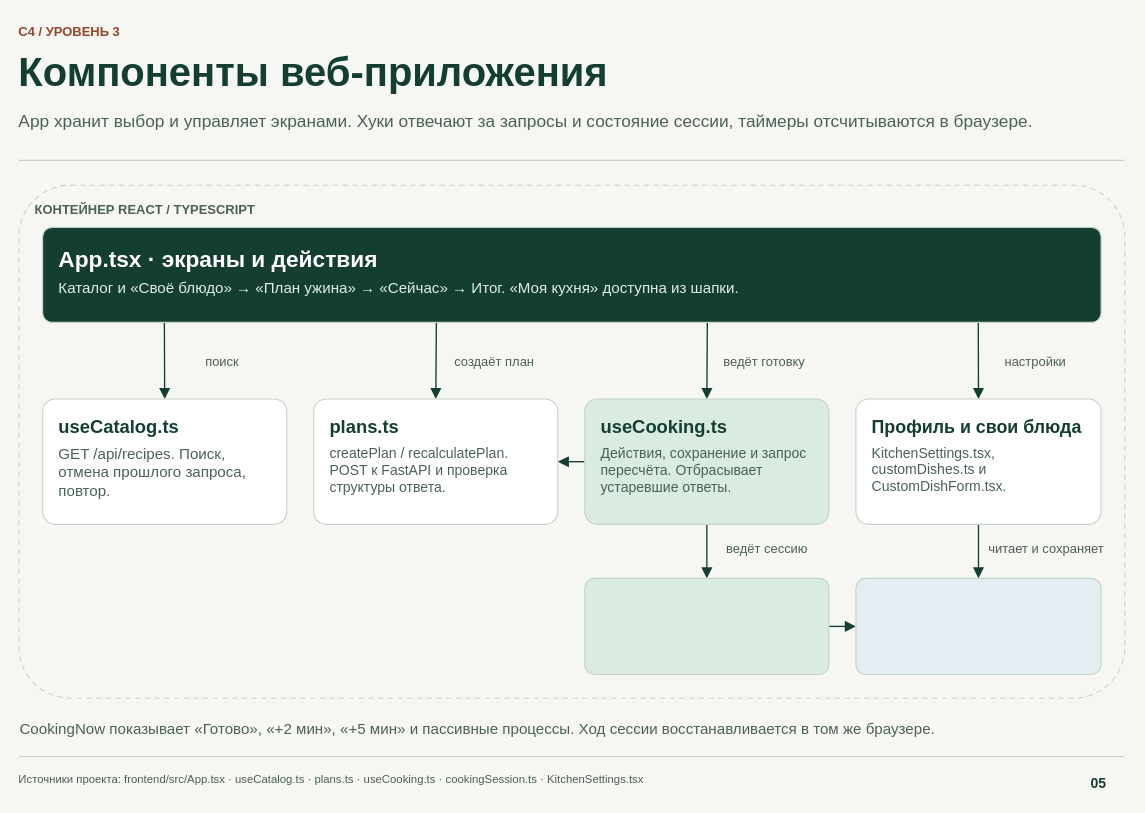
Some shapes in this 1145 by 813 pixel diagram are drawn without their labels. Each missing label, with the box of its shape:
cookingSession.ts Снимок v1, таймеры, прогресс и переходы состояния.: (584, 577, 829, 674)
localStorage Сессия, настройки кухни и шаблоны своих блюд.: (855, 577, 1101, 674)
